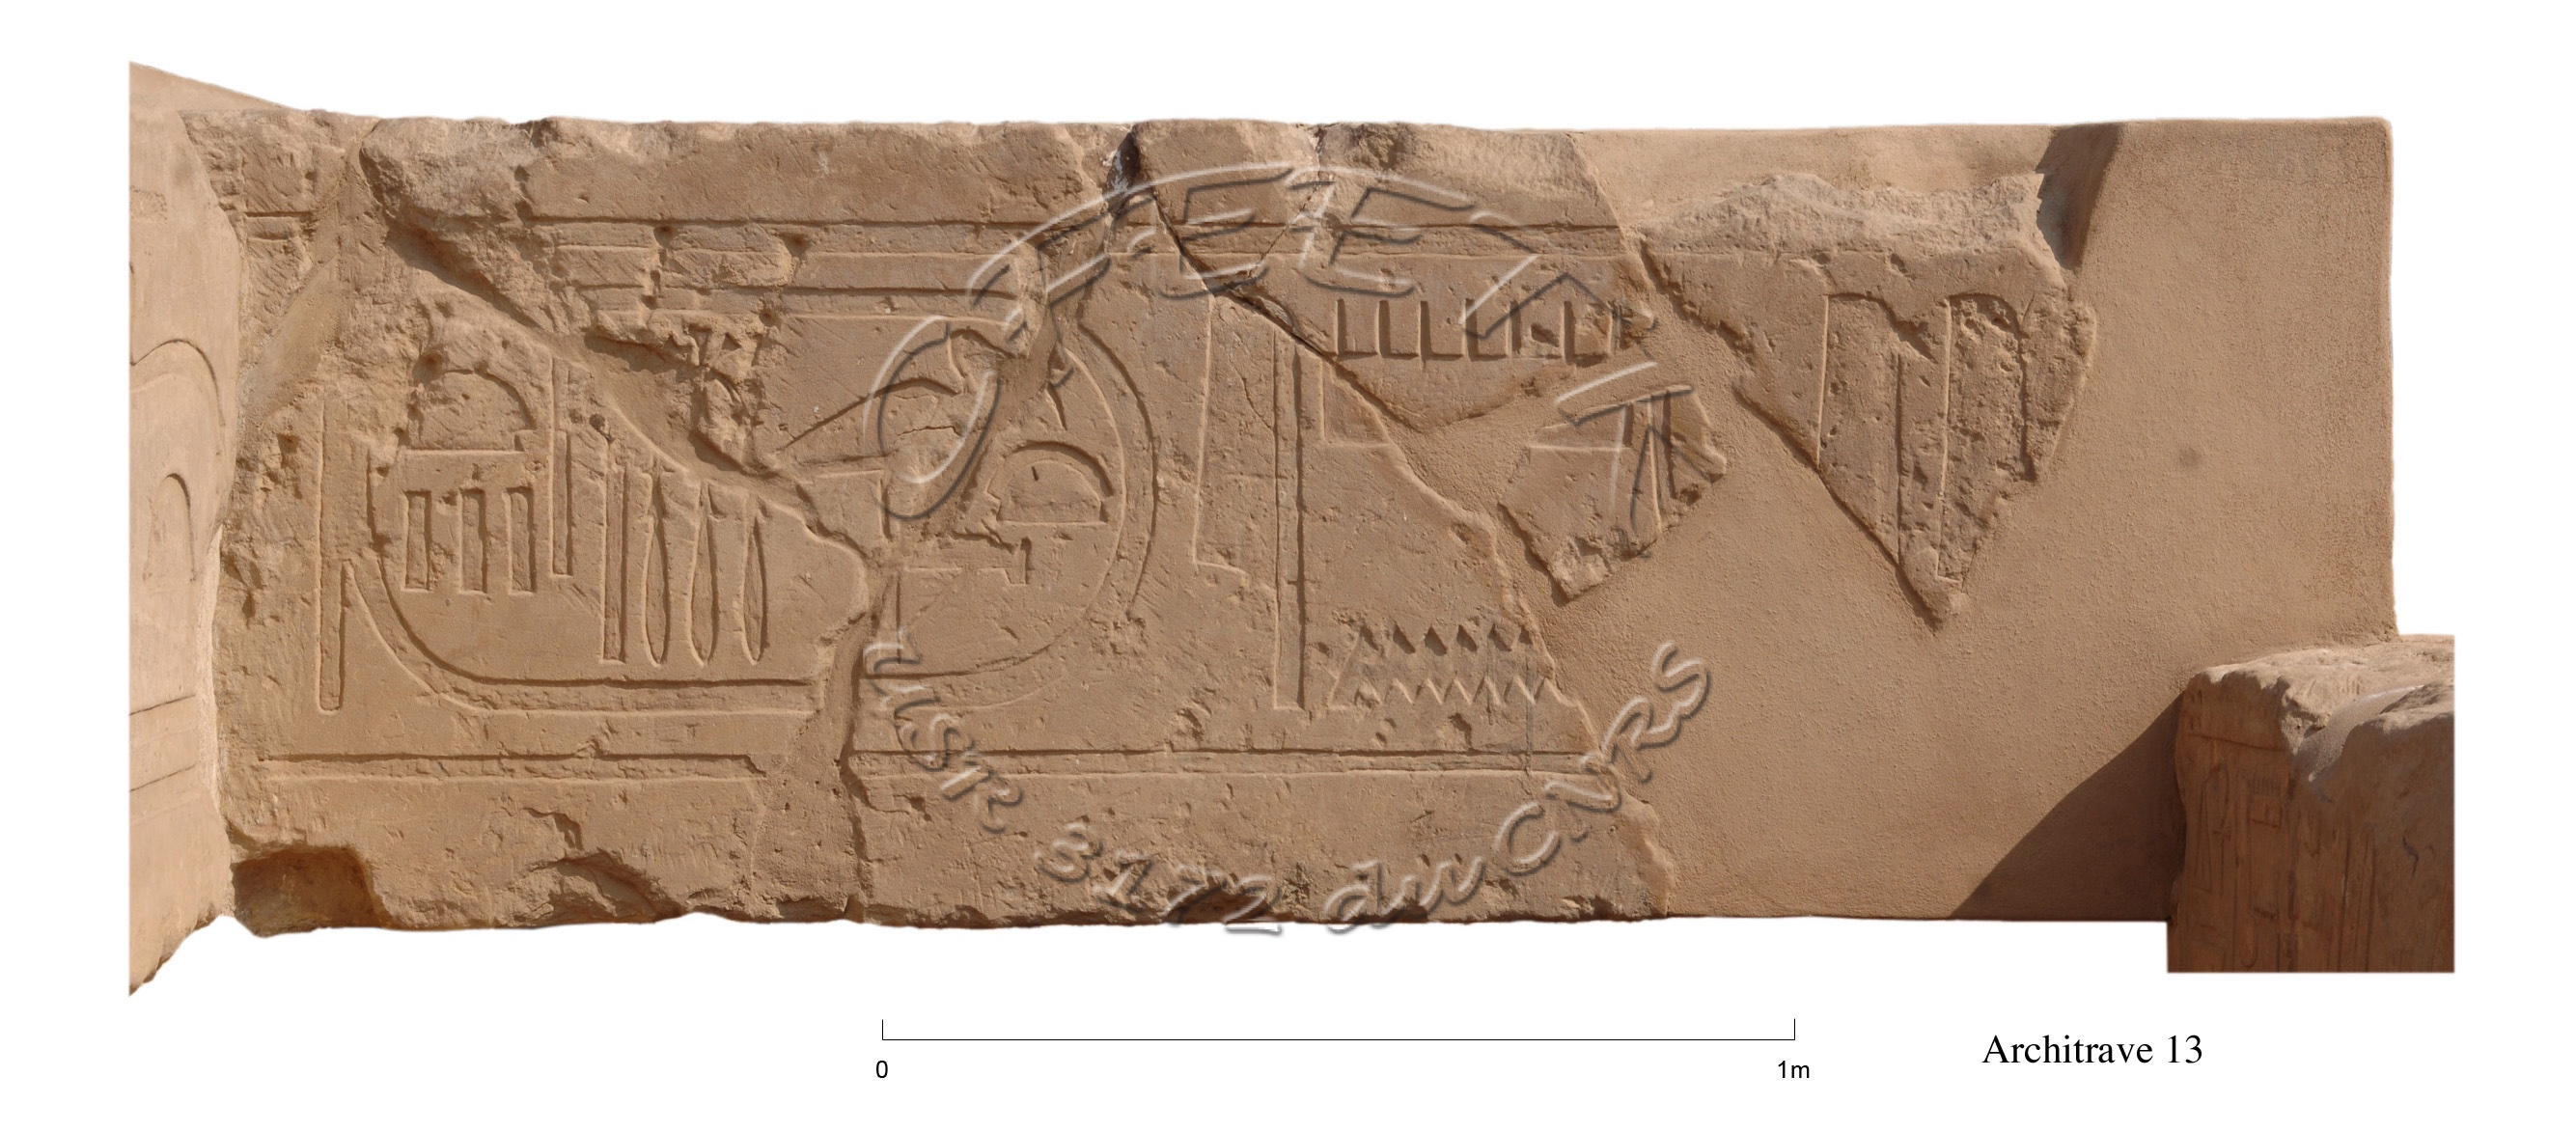M17: (1161, 258, 1355, 736), (1924, 276, 2070, 646), (1784, 273, 1927, 637)
N35: (1318, 605, 1630, 757)
